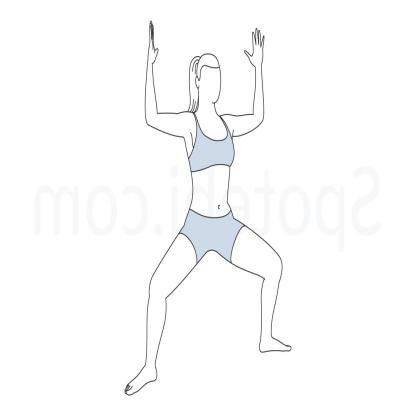godness: (120, 12, 302, 412)
